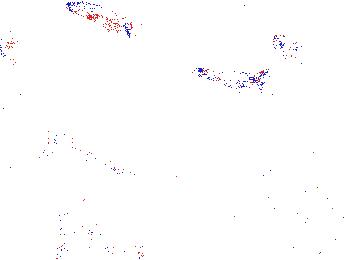X-ray fish: (89, 231, 147, 260)
glassfish: (37, 130, 141, 191)
red belly glassfish: (272, 31, 296, 57)
redtail glassfish: (65, 1, 141, 41), (194, 63, 271, 93), (1, 32, 29, 68)
